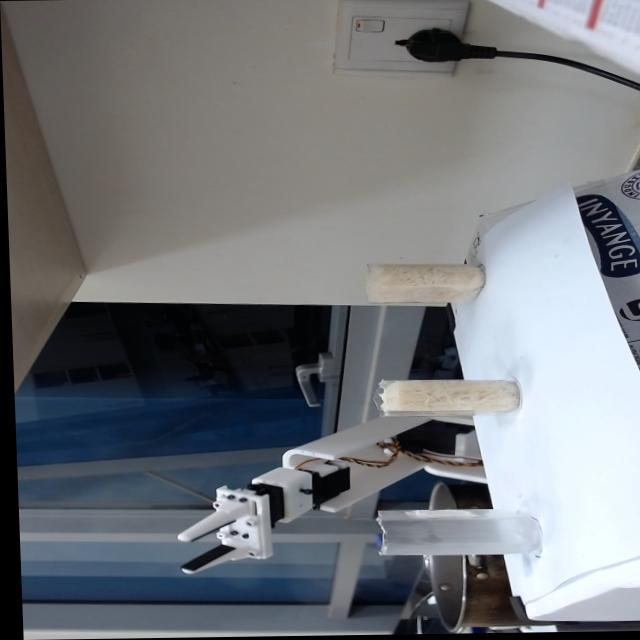raw_rice: (386, 374, 519, 415), (367, 263, 484, 303)
